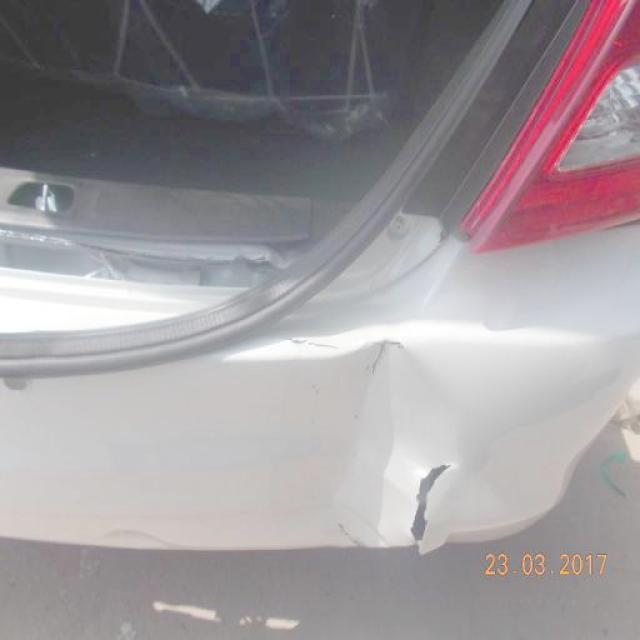car damage: (271, 340, 416, 546), (408, 459, 457, 552), (263, 321, 348, 359), (363, 332, 414, 381)
